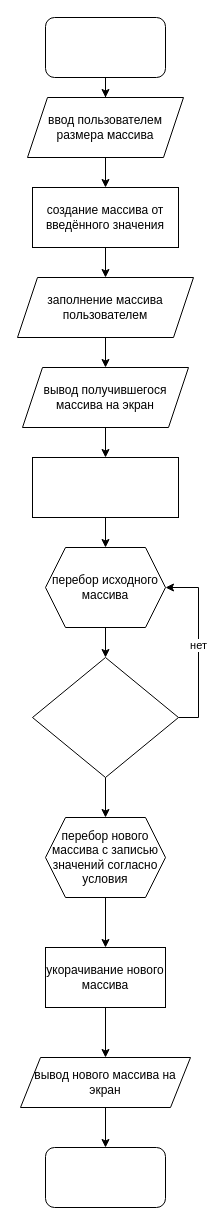
This 224x1225 diagram has some shape labels left out. The shapes that lost their labels are listed below. From the top down, each one's centre as x and y in pixels, then its label:
the point at 105,47: begin
the point at 105,487: создание нового массива для записи в него
the point at 105,717: длина string члена массива меньше 4?
the point at 105,1177: end
